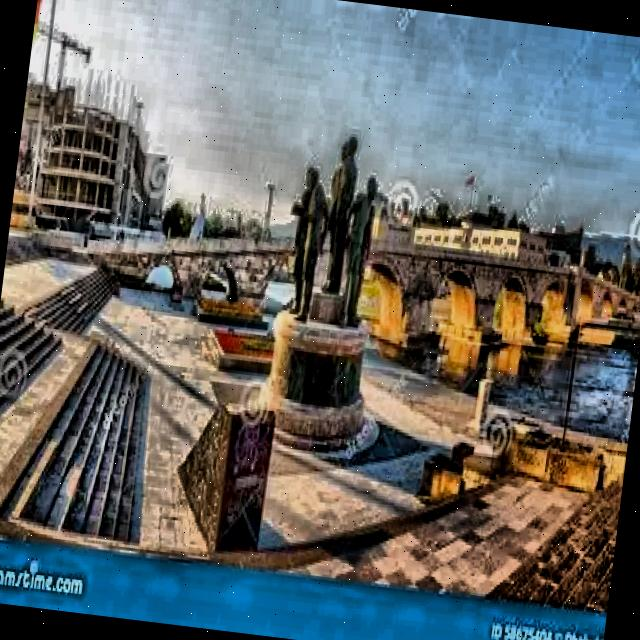stone bridge: (60, 202, 640, 372)
